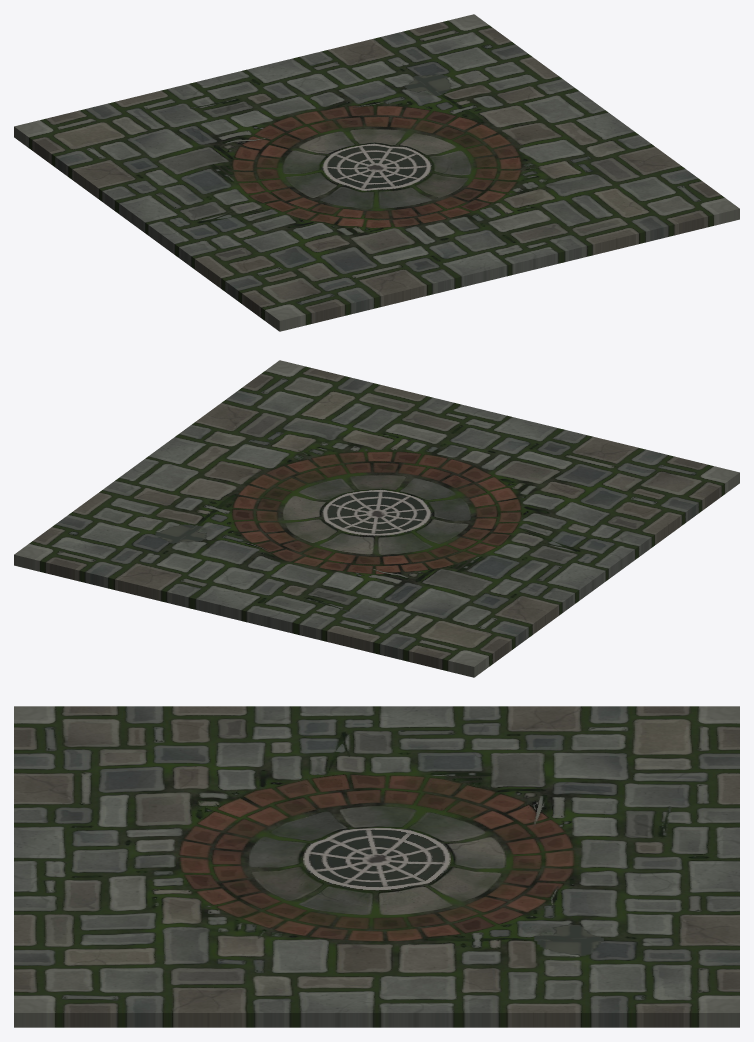
File: sunken_floor_c.glb
The picture shows the model from 3 angles, top to bottom: view 1: azimuth 30°, elevation 25°; view 2: azimuth 150°, elevation 25°; view 3: azimuth 270°, elevation 25°; orthographic projection. The views are drawn at different scales.
Visible parts, largest first — view 1: sunken_floor_c; view 2: sunken_floor_c; view 3: sunken_floor_c.
Part boxes in pixels (left/top/right/bottom): sunken_floor_c: left=14, top=14, right=739, bottom=331; sunken_floor_c: left=14, top=360, right=739, bottom=677; sunken_floor_c: left=14, top=706, right=739, bottom=1027.
Bounding box in the file's own units: 4 × 0.1146 × 4.
Materials: 1 (1 with a texture image).
